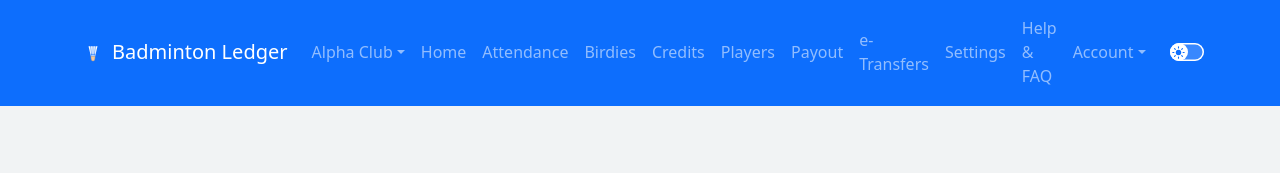
Test: AppNavBar › switches clubs from the dropdown and updates the current title
Click the button "Alpha Club": (358, 52) 304,32 -> 413,72
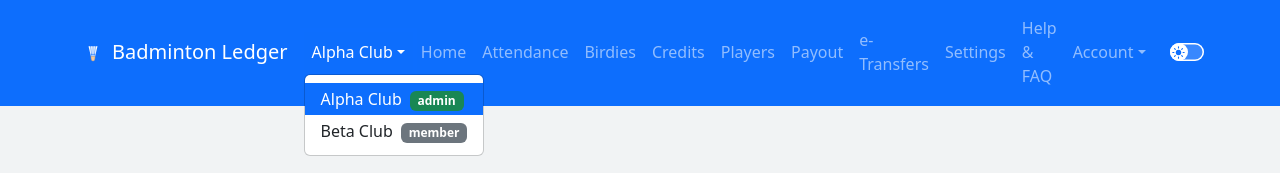
Click the button "Beta Club member": (394, 132) 320,120 -> 467,143
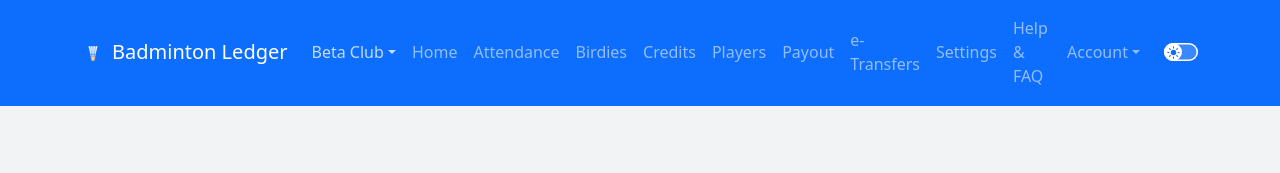
Expected: the button "Beta Club" is shown, 304,32 -> 404,72
